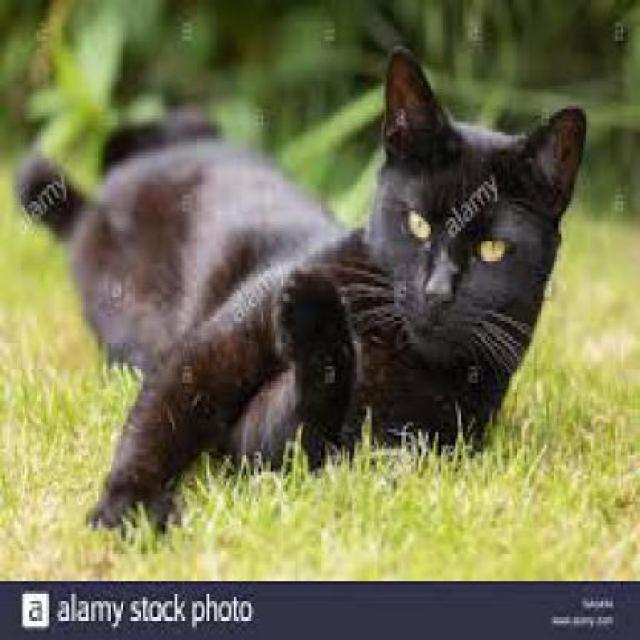animals: (74, 56, 594, 524)
